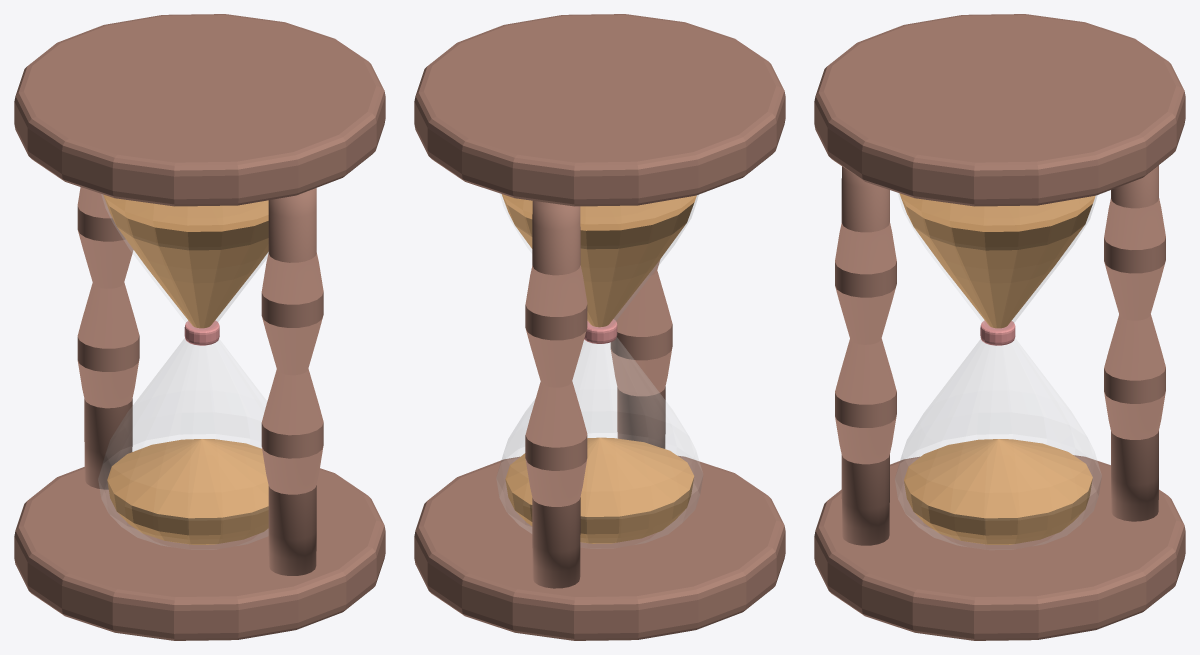
File: Hourglass.gltf
The picture shows the model from 3 angles, left to right: view 1: azimuth 30°, elevation 25°; view 2: azimuth 150°, elevation 25°; view 3: azimuth 270°, elevation 25°; orthographic projection.
Parts seen in each view (by area): view 1: node-0; view 2: node-0; view 3: node-0.
Boxes of the visible parts, left/top/right/bottom form: node-0: left=14, top=14, right=385, bottom=640; node-0: left=414, top=14, right=785, bottom=640; node-0: left=814, top=14, right=1185, bottom=640.
Size of the model in its own units: 491596 by 703917 by 496126.
